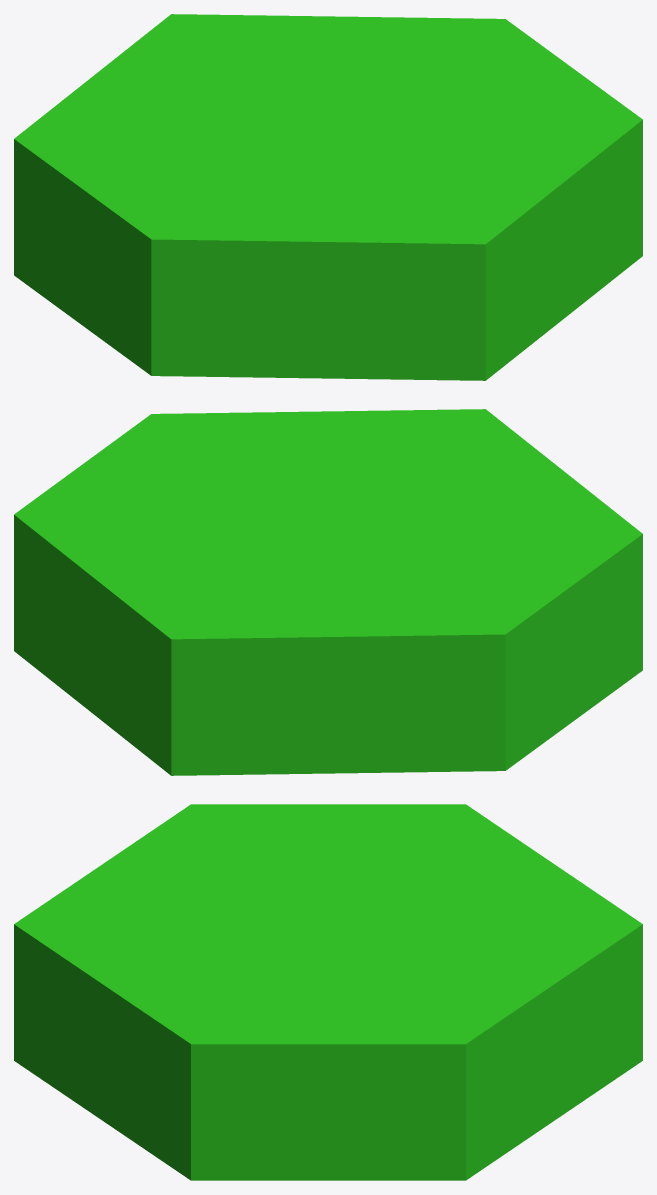
File: NormalContent.fbx
3 renders of one model, top to bottom at view 1: azimuth 30°, elevation 25°; view 2: azimuth 150°, elevation 25°; view 3: azimuth 270°, elevation 25°, orthographic.
Parts seen in each view (by area): view 1: Model; view 2: Model; view 3: Model.
Boxes of the visible parts, x1,y1,x2,y2 form: Model: [14, 14, 642, 380]; Model: [14, 409, 642, 775]; Model: [14, 804, 642, 1180].
Size of what is drawn, in the model's own units: 1.16 by 0.308 by 1.29.
